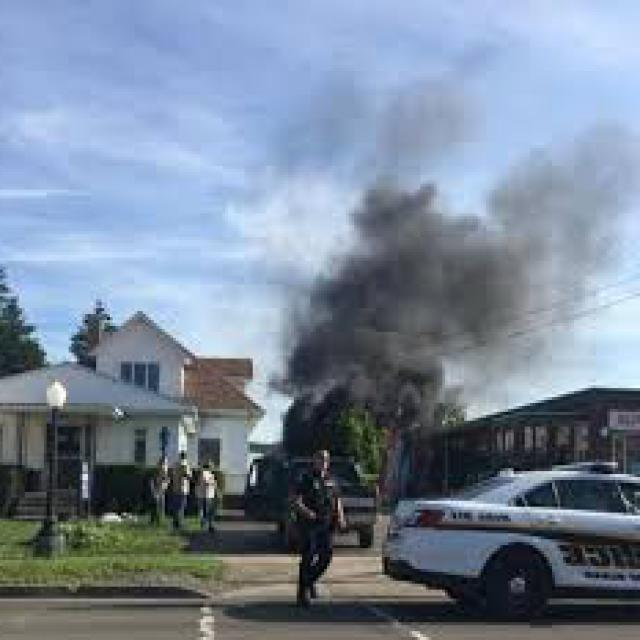Smoke: (264, 146, 621, 426)
